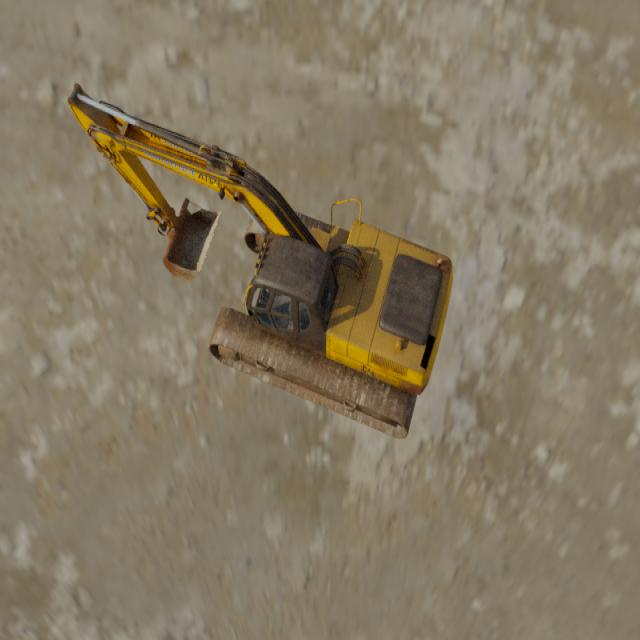excavator: (66, 81, 453, 439)
